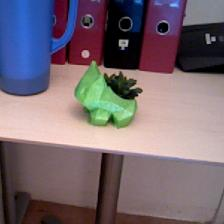YCB-Objects: (1, 1, 76, 97)
